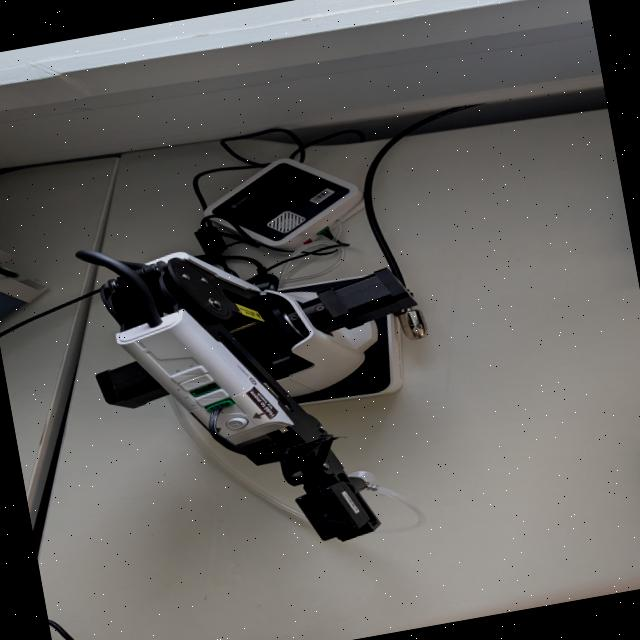Robot-end-effector-HF8z: (279, 462, 391, 551)
